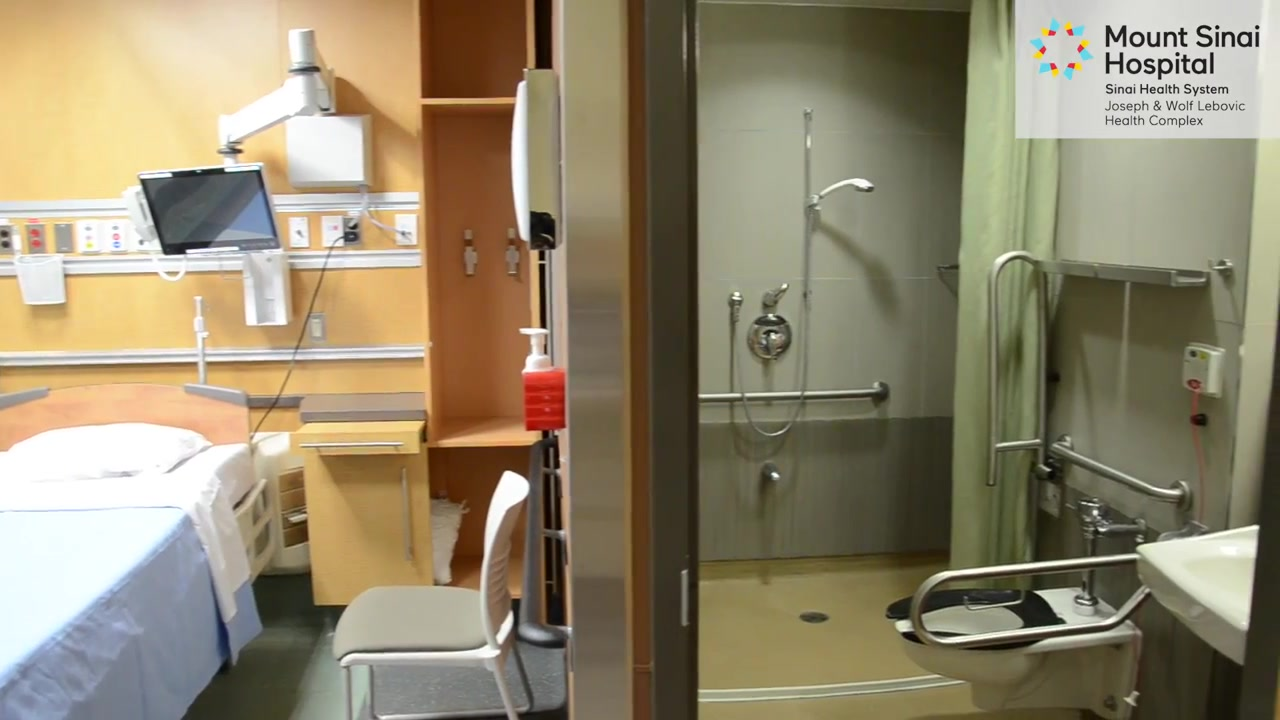bedrail: (233, 478, 277, 597)
bedside_monitor: (137, 161, 279, 255)
bedside_table: (290, 391, 433, 606)
chair: (332, 471, 536, 720)
curtain: (949, 1, 1058, 588)
dispenser: (513, 68, 563, 252), (518, 327, 567, 428)
door_handle: (678, 567, 691, 628)
faucet: (761, 332, 783, 358)
hallway_assist_bar: (519, 437, 567, 648)
handle: (399, 467, 414, 562), (298, 442, 405, 446)
hospital_bed: (1, 384, 276, 720)
restroom_assist_bar: (908, 552, 1151, 650), (982, 248, 1053, 485), (1043, 439, 1191, 510), (698, 382, 889, 403)
sink: (1140, 524, 1269, 668)
toilet: (888, 583, 1141, 720)
toilet_handle: (1061, 494, 1092, 522)
